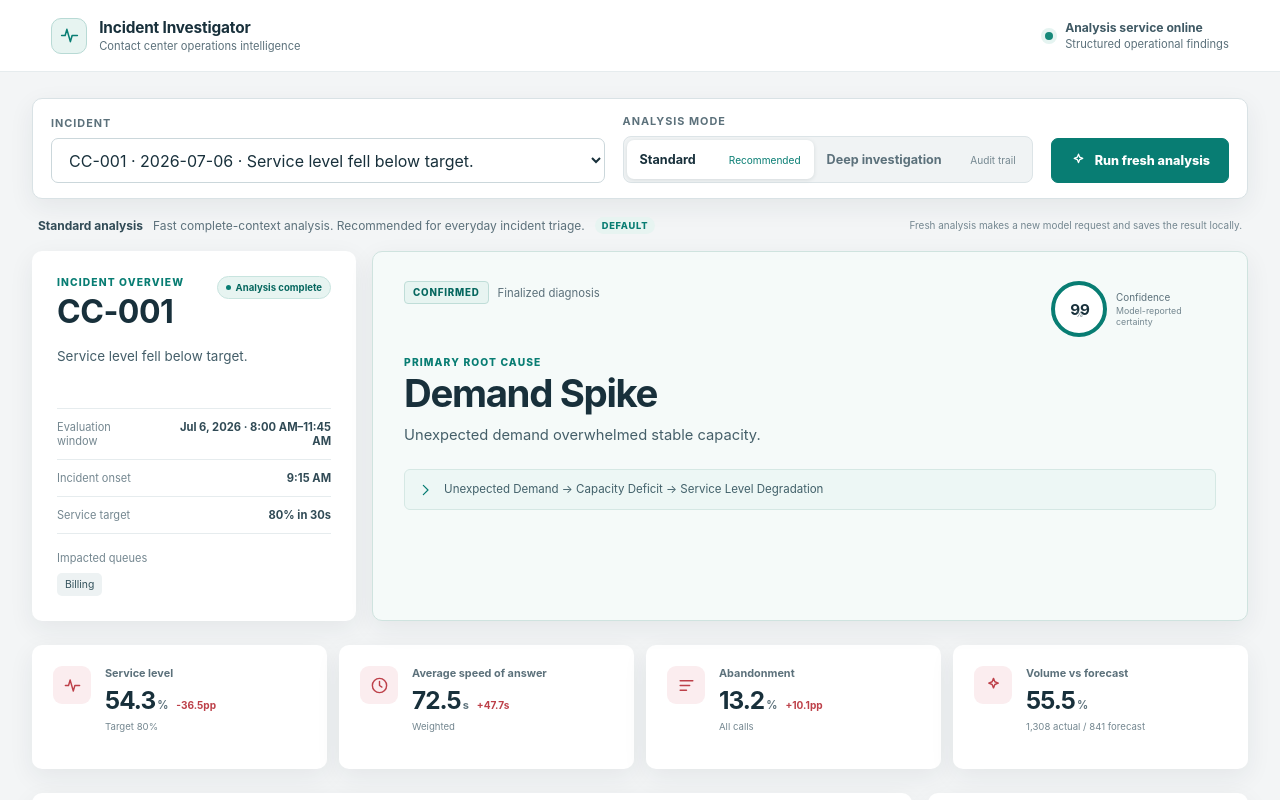
Test: keeps the saved report visible when a fresh analysis fails
The width and height of the screenshot is (1280, 800).
Expected: the heading "Demand Spike" is shown, [404, 370, 657, 416]
What coordinates should you click on to do the following:
click the button "Run fresh analysis"
I would click on:
 (1140, 160)
Its box is [1051, 138, 1229, 183].
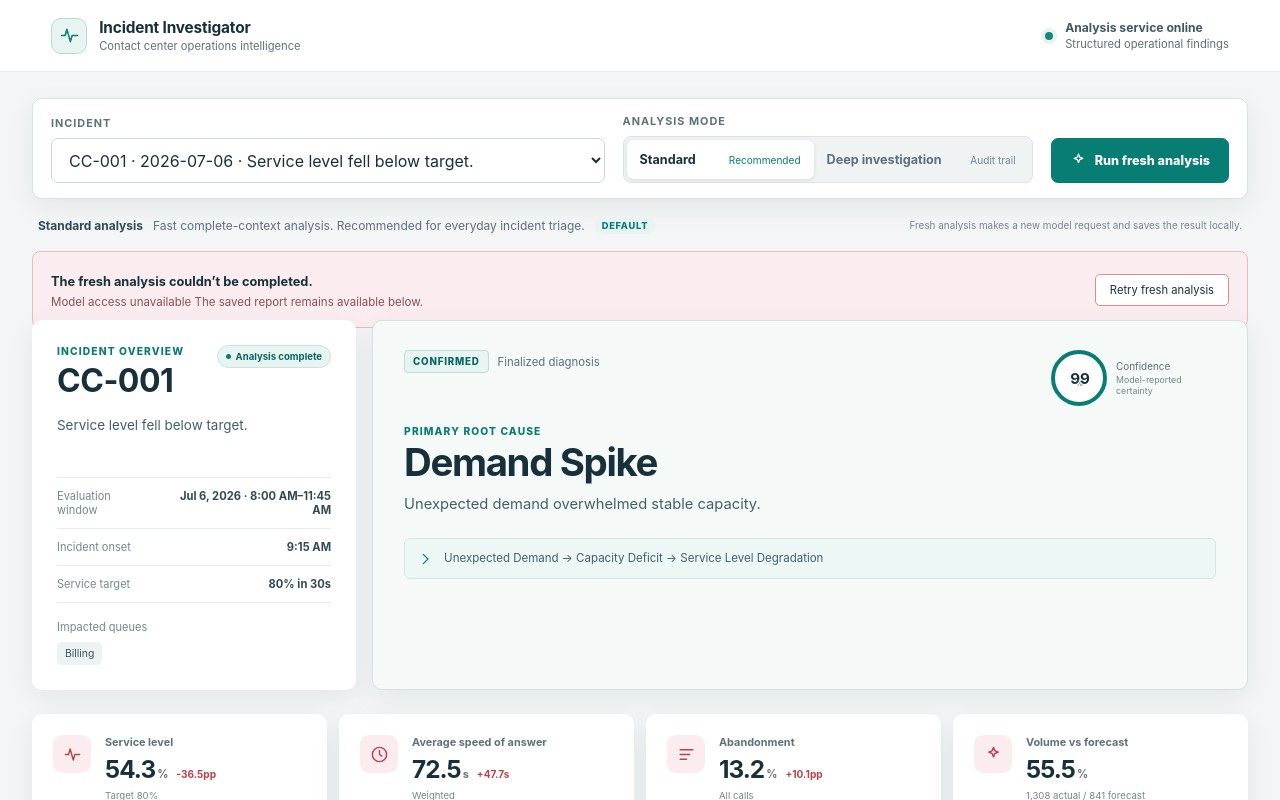
Expected: the heading "Demand Spike" is shown, [404, 439, 657, 485]
Expected: the message shows "Model access unavailable", [51, 295, 191, 309]
Expected: the button "Retry fresh analysis" is enabled, [1095, 274, 1229, 306]
